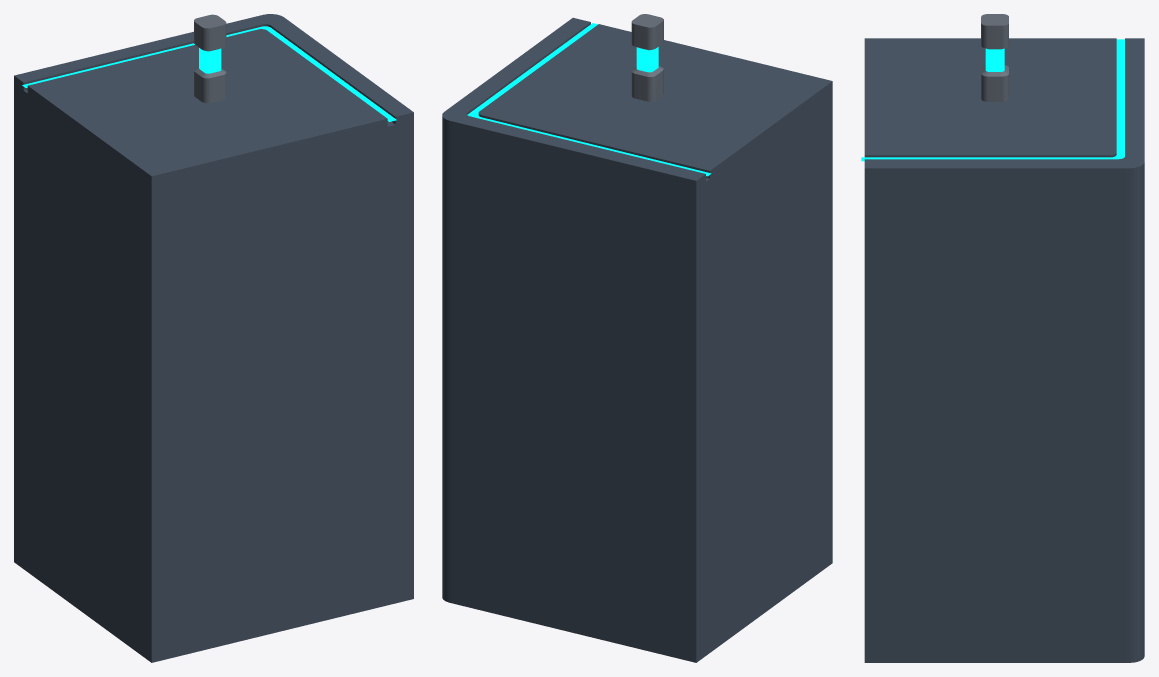
The model's file is Nivel_2-Modulo5.fbx.
3 renders of one model, left to right at view 1: azimuth 30°, elevation 25°; view 2: azimuth 150°, elevation 25°; view 3: azimuth 270°, elevation 25°, orthographic. The views are drawn at different scales.
Visible parts, largest first — view 1: Part7_1, columna, Part7_2; view 2: Part7_1, columna, Part7_2; view 3: Part7_1, columna, Part7_2, polySurface2.
Part boxes in pixels (bbox=[...]): Part7_1: bbox=[14, 14, 413, 662]; columna: bbox=[194, 14, 226, 103]; Part7_2: bbox=[22, 26, 396, 121]; Part7_1: bbox=[442, 17, 832, 662]; columna: bbox=[631, 14, 663, 101]; Part7_2: bbox=[467, 23, 711, 176]; Part7_1: bbox=[864, 38, 1144, 662]; columna: bbox=[981, 14, 1008, 101]; Part7_2: bbox=[861, 39, 1124, 161]; polySurface2: bbox=[985, 48, 1004, 71].
Size of the model in its own units: 11.08 by 22.62 by 10.12.
